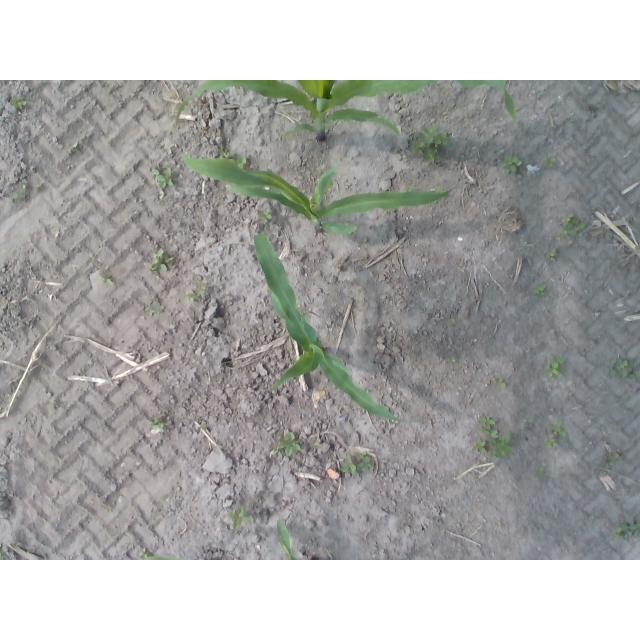Maize: (253, 233, 427, 424), (180, 153, 452, 232), (184, 80, 521, 142), (277, 518, 295, 560), (145, 556, 178, 560)
Weeds: (413, 128, 451, 160), (490, 431, 514, 457), (277, 433, 300, 455), (563, 213, 585, 236), (149, 249, 171, 271), (154, 166, 174, 189), (229, 509, 251, 529), (613, 524, 640, 540), (546, 358, 566, 377), (501, 156, 521, 174), (187, 286, 206, 303), (552, 420, 568, 440), (615, 357, 631, 377), (342, 459, 359, 476), (11, 92, 26, 108), (472, 438, 486, 452), (151, 418, 165, 431), (607, 452, 620, 465), (100, 273, 114, 285), (482, 416, 495, 428), (358, 452, 370, 464), (259, 210, 271, 222), (545, 155, 555, 168), (547, 248, 557, 260), (535, 284, 546, 294), (145, 306, 155, 315), (490, 430, 499, 439), (535, 470, 545, 478), (495, 378, 505, 386), (139, 548, 149, 556), (238, 157, 246, 167), (547, 440, 557, 448), (479, 428, 490, 435), (310, 439, 319, 447), (71, 149, 81, 156), (11, 190, 18, 200), (557, 234, 564, 241), (626, 373, 634, 379), (446, 358, 454, 363), (527, 415, 533, 421), (451, 319, 456, 325)
